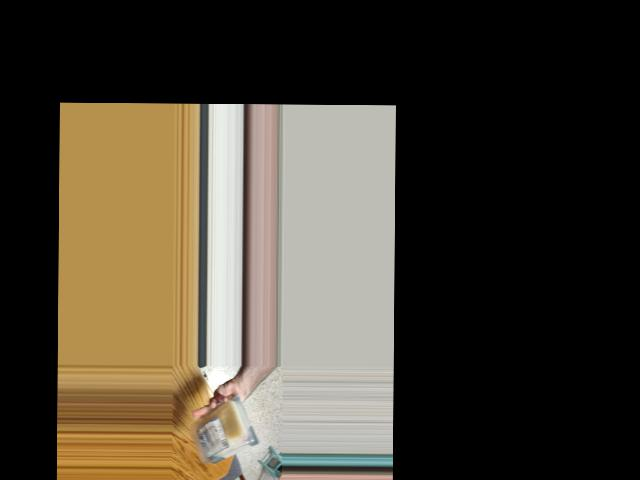cheese: (194, 412, 258, 463)
